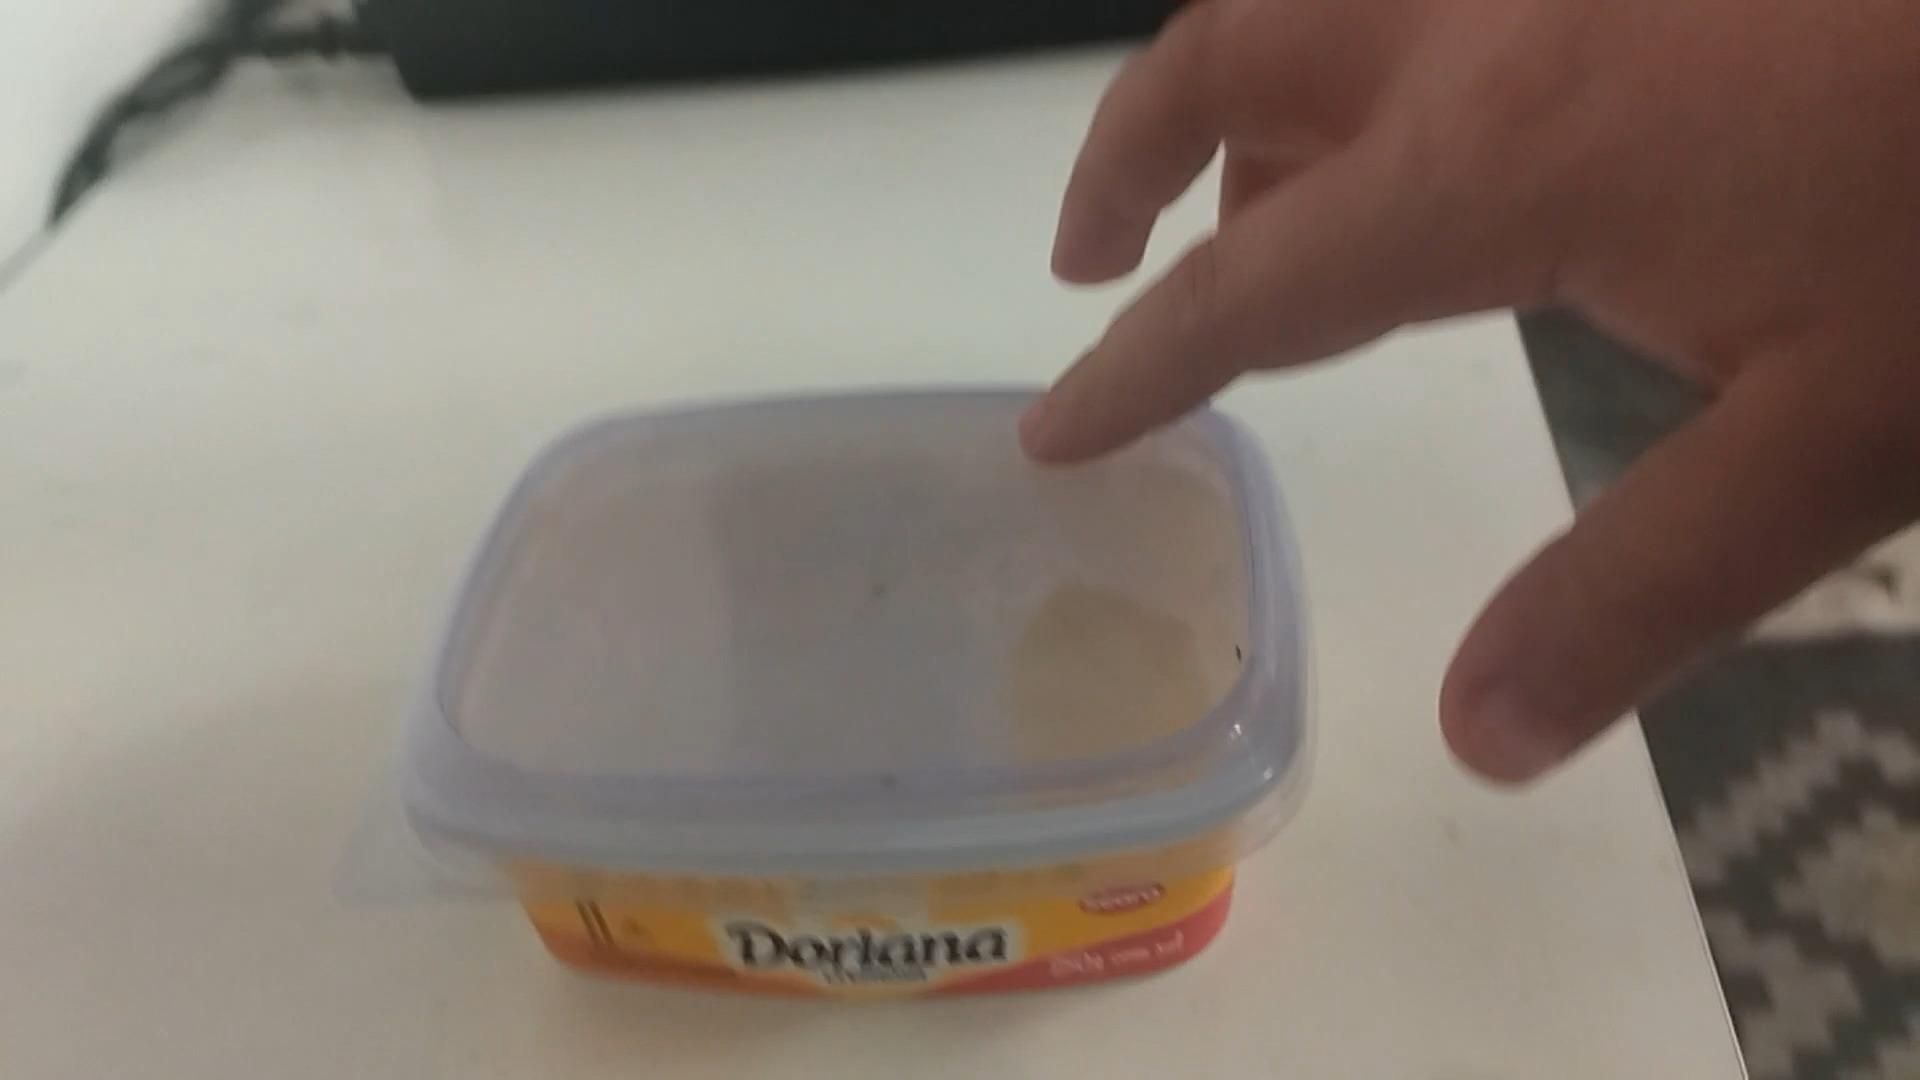butter: (394, 390, 1313, 1004)
